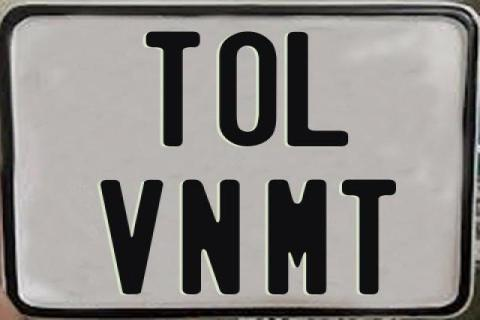0: (219, 29, 282, 145)
L: (287, 30, 350, 144)
M: (265, 180, 323, 300)
N: (182, 177, 246, 293)
T: (143, 29, 198, 147), (340, 179, 395, 295)
V: (99, 180, 168, 296)
